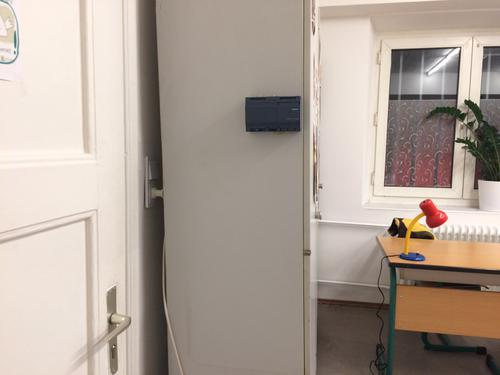iot2000: (244, 94, 302, 132)
